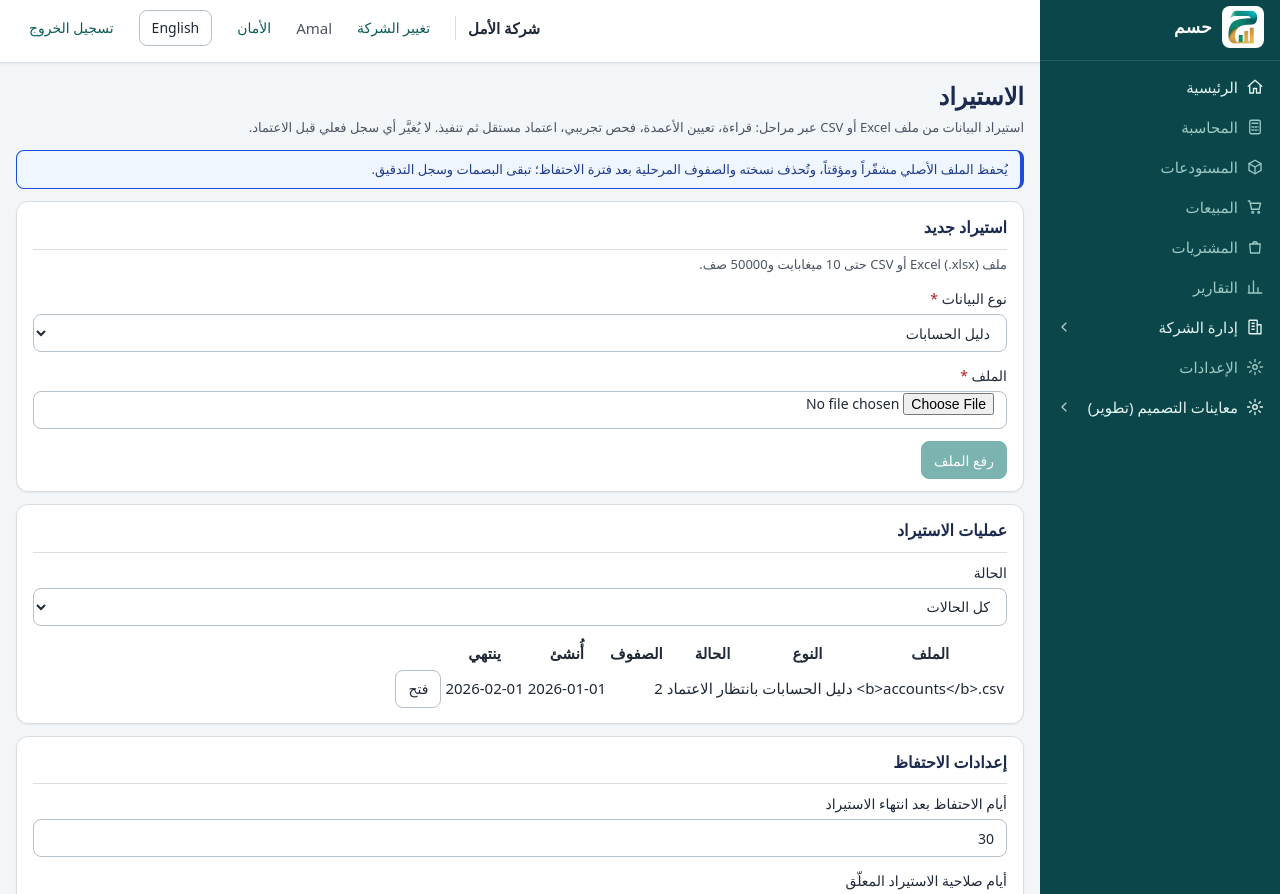
Test case: imports screen › rejecting requires a comment
The width and height of the screenshot is (1280, 894).
Check: the element with test id "company-name" is shown, box [455, 16, 540, 40]
Click the button "فتح" at (418, 689), box [396, 670, 442, 708]
(page scrolled)
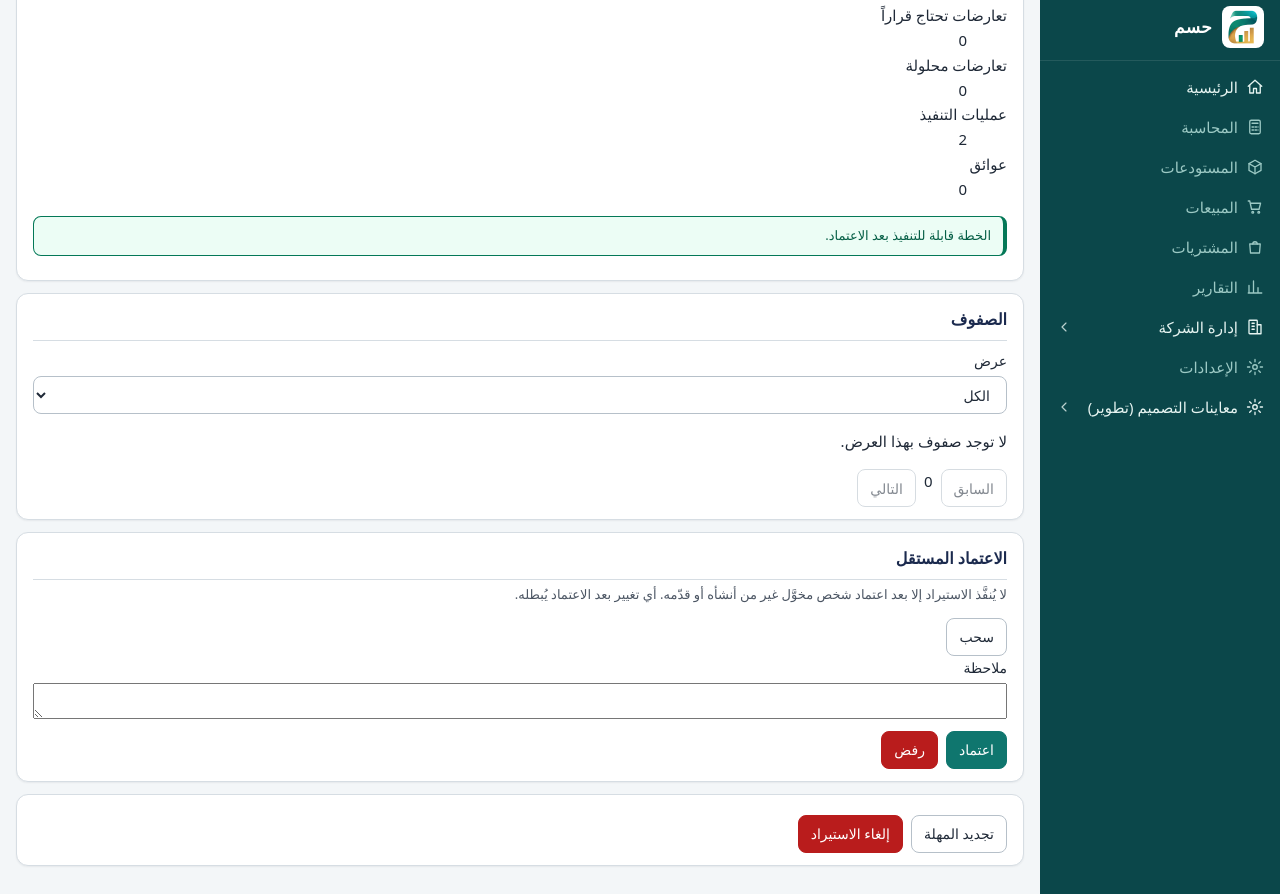
Click the button with test id "imp-reject" at (910, 750), box [881, 731, 938, 769]
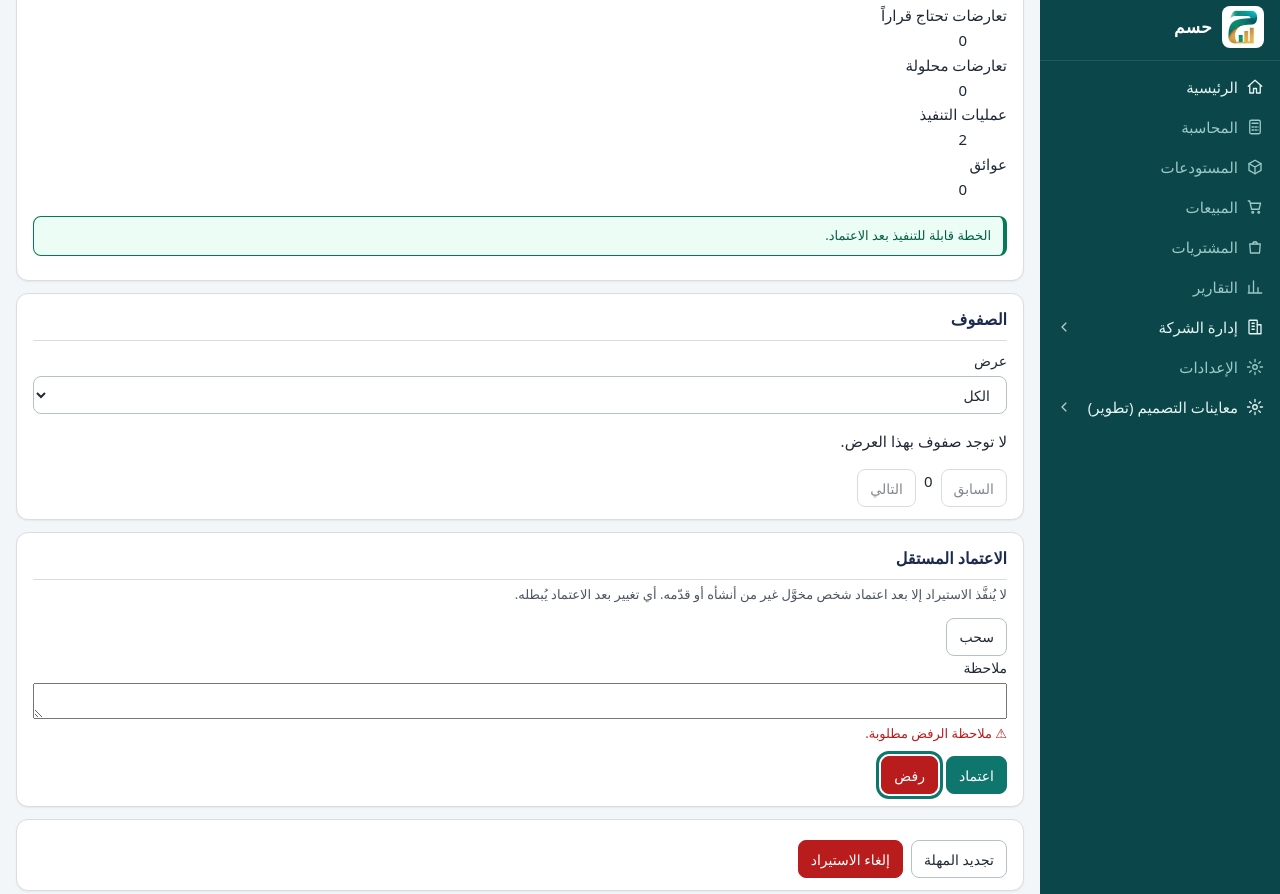
Check: the text "ملاحظة الرفض مطلوبة." is shown, box [865, 724, 992, 742]
